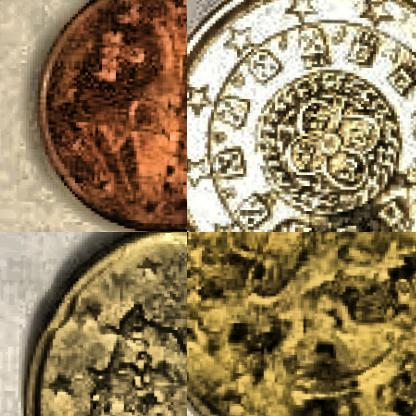coin: (187, 0, 415, 231), (187, 232, 415, 415), (37, 0, 186, 231), (21, 232, 186, 415)
